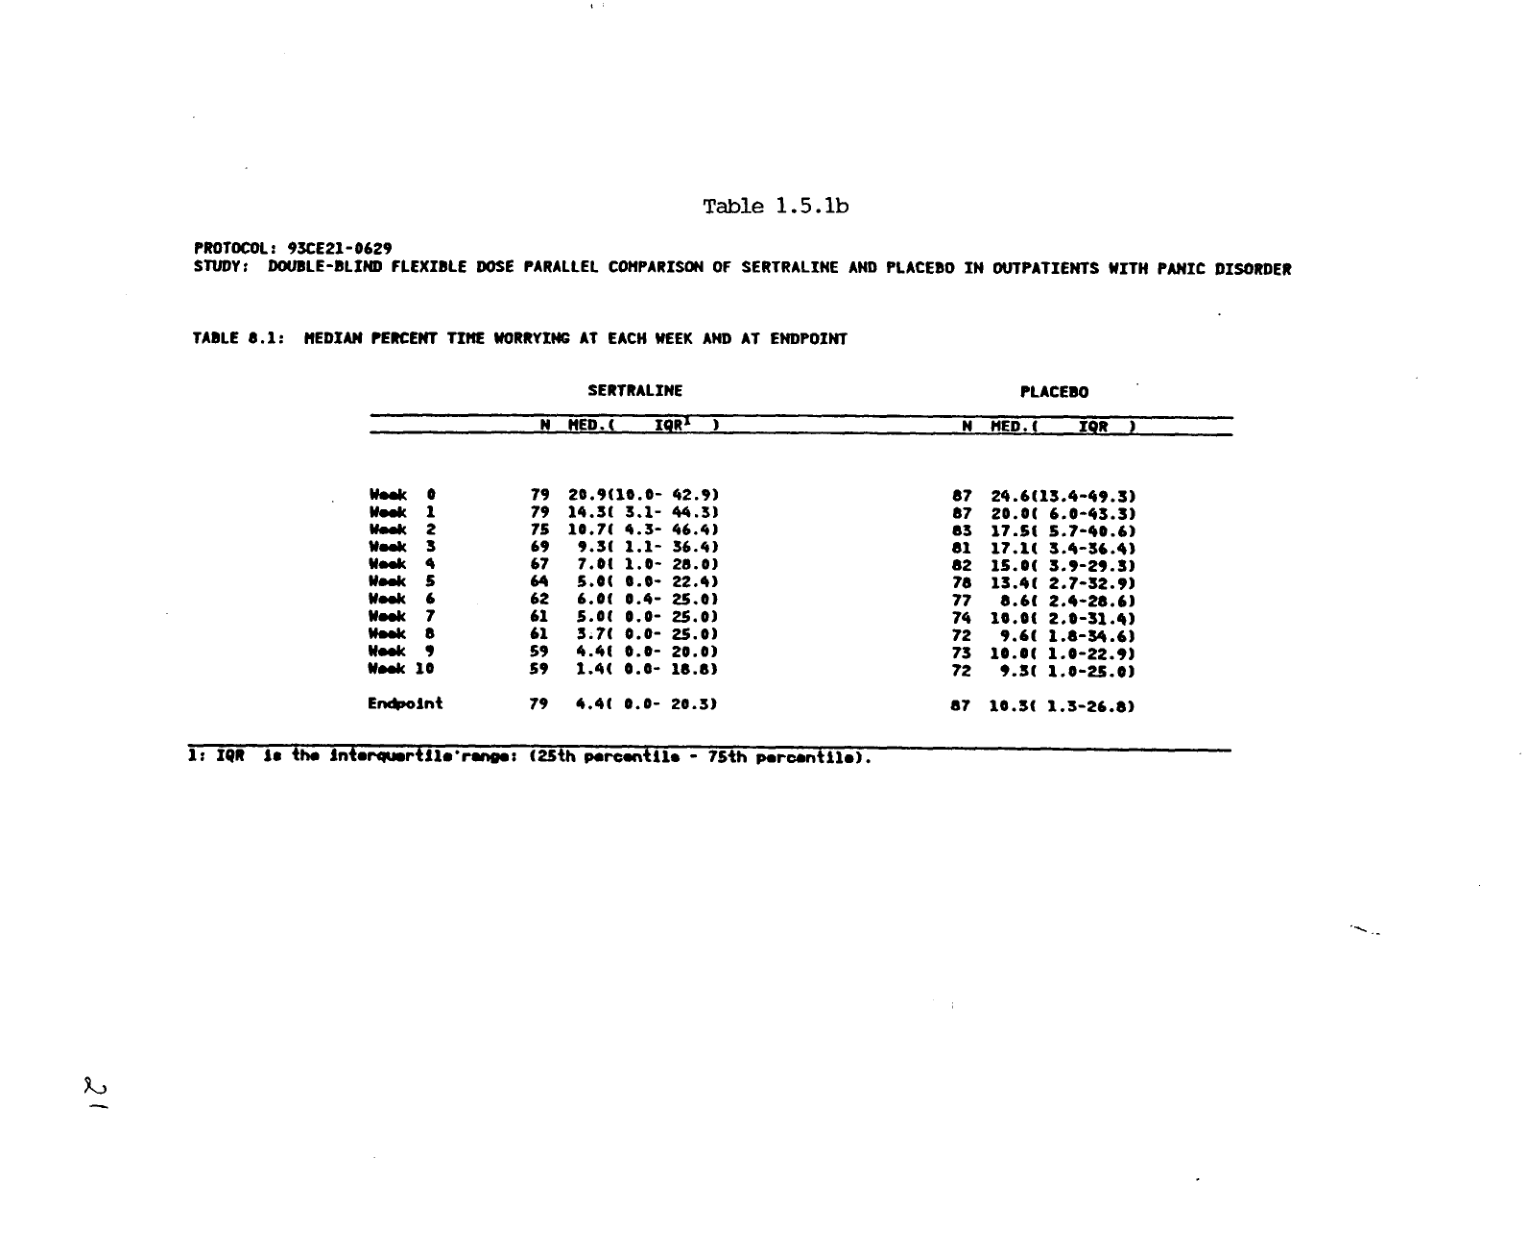partial_lined_merged_cells: (363, 380, 1235, 717)
